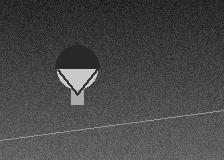helmet: (55, 45, 99, 94)
